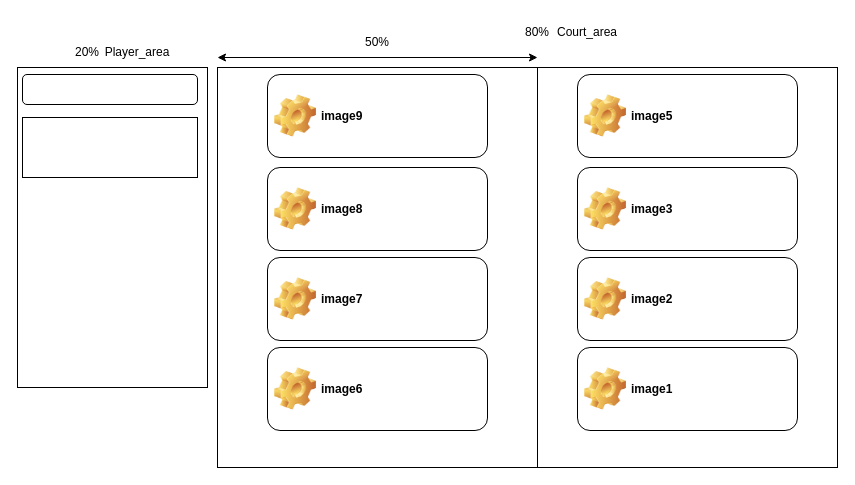
Some shapes in this 855 by 485 pixel diagram are drawn without their labels. The shapes that lost their labels are listed below. From the top down, each one's centre as x and y in pixels, then its label:
the point at 110,89: Player A
the point at 110,147: Player B Player C Player D
